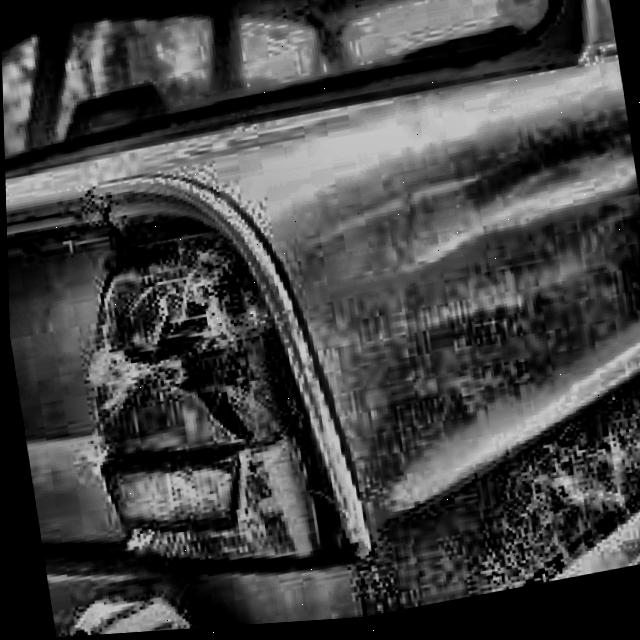tail_lamp: (63, 214, 307, 555)
